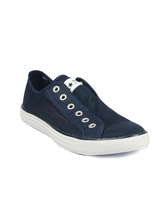shoes: (19, 68, 152, 157)
